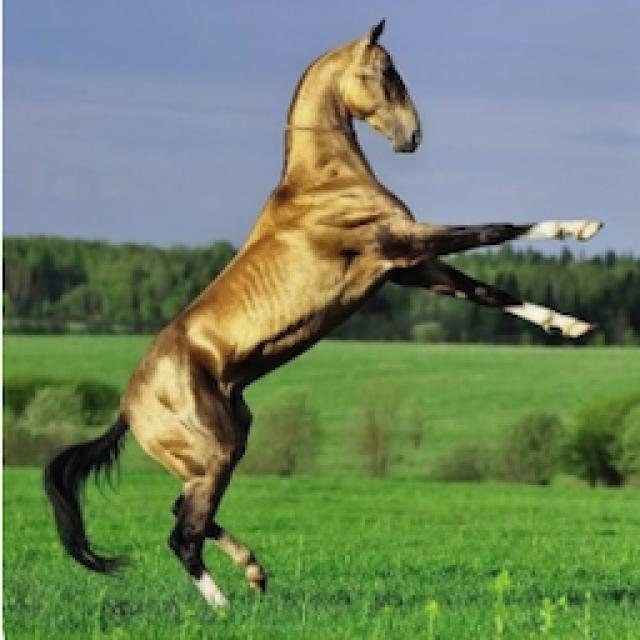Horse: (40, 12, 608, 616)
